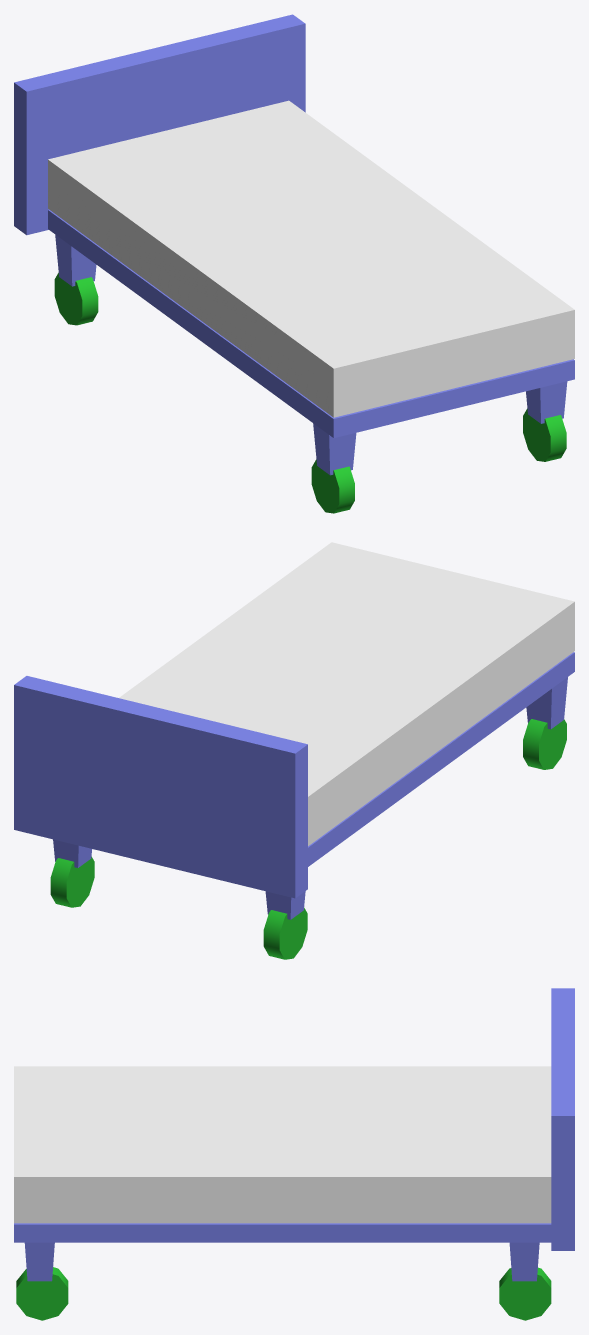
File: Bed.gltf
The picture shows the model from 3 angles, top to bottom: view 1: azimuth 30°, elevation 25°; view 2: azimuth 150°, elevation 25°; view 3: azimuth 270°, elevation 25°; orthographic projection. The views are drawn at different scales.
Visible parts, largest first — view 1: Bed; view 2: Bed; view 3: Bed.
Part boxes in pixels (x1,y1,x2,y2): Bed: [14, 14, 574, 513]; Bed: [14, 542, 574, 959]; Bed: [14, 988, 574, 1320].
Bounding box in the file's own units: 41.52 × 32.62 × 76.97.
